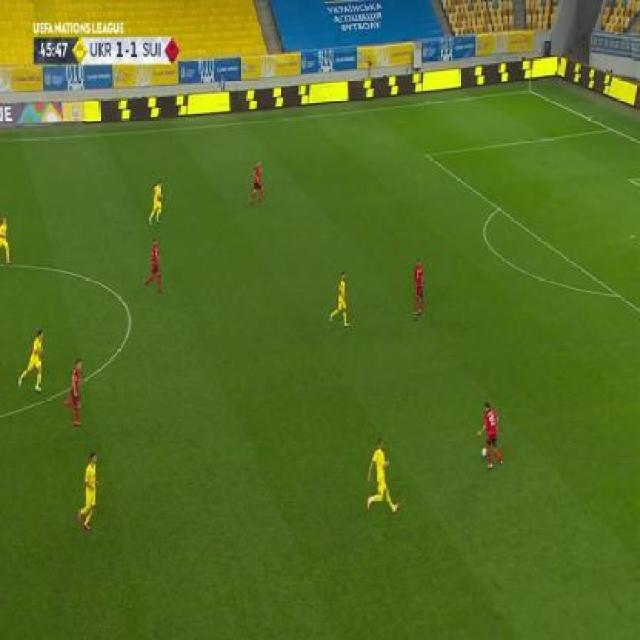ball: (482, 446, 488, 460)
player: (364, 438, 400, 520), (475, 401, 504, 470), (16, 330, 47, 392), (78, 452, 100, 531), (63, 356, 85, 427), (328, 270, 350, 329), (142, 238, 164, 295), (410, 256, 426, 319), (147, 179, 164, 225), (248, 159, 264, 207), (0, 214, 14, 265)
